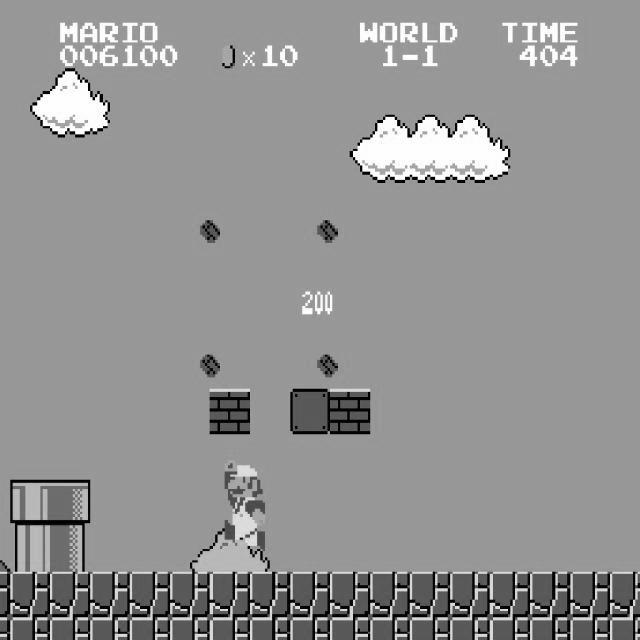1- brick_block: (210, 388, 250, 434), (330, 388, 370, 434)
14- pipe: (10, 526, 50, 572), (50, 526, 90, 572)
15- pipe_head: (10, 480, 50, 526), (50, 480, 90, 526)
17- undestructible_block: (10, 572, 50, 618), (50, 572, 90, 618), (90, 572, 130, 618), (130, 572, 170, 618), (170, 572, 210, 618), (210, 572, 250, 618), (250, 572, 290, 618), (290, 572, 330, 618), (330, 572, 370, 618), (370, 572, 410, 618), (410, 572, 450, 618), (450, 572, 490, 618), (490, 572, 530, 618), (530, 572, 570, 618), (570, 572, 610, 618), (610, 572, 640, 618), (10, 617, 50, 640), (50, 617, 90, 640), (90, 617, 130, 640), (130, 617, 170, 640), (170, 617, 210, 640), (210, 617, 250, 640), (250, 617, 290, 640), (290, 617, 330, 640), (330, 617, 370, 640), (370, 617, 410, 640), (410, 617, 450, 640), (450, 617, 490, 640), (490, 617, 530, 640), (530, 617, 570, 640), (570, 617, 610, 640), (610, 617, 640, 640), (0, 571, 10, 617), (0, 617, 10, 639)
3- empty_block: (290, 388, 330, 434)
4- fire_mario: (222, 457, 265, 551)
